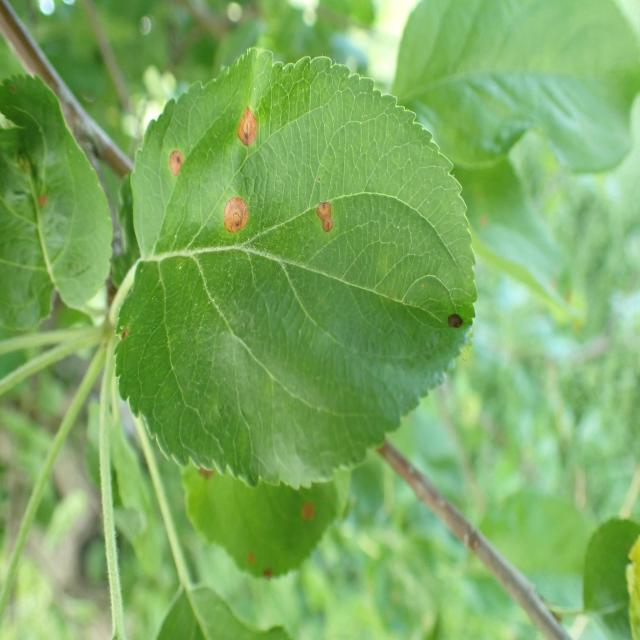Black Rot: (305, 187, 349, 244), (238, 86, 266, 164), (221, 189, 250, 247), (149, 145, 192, 182)
